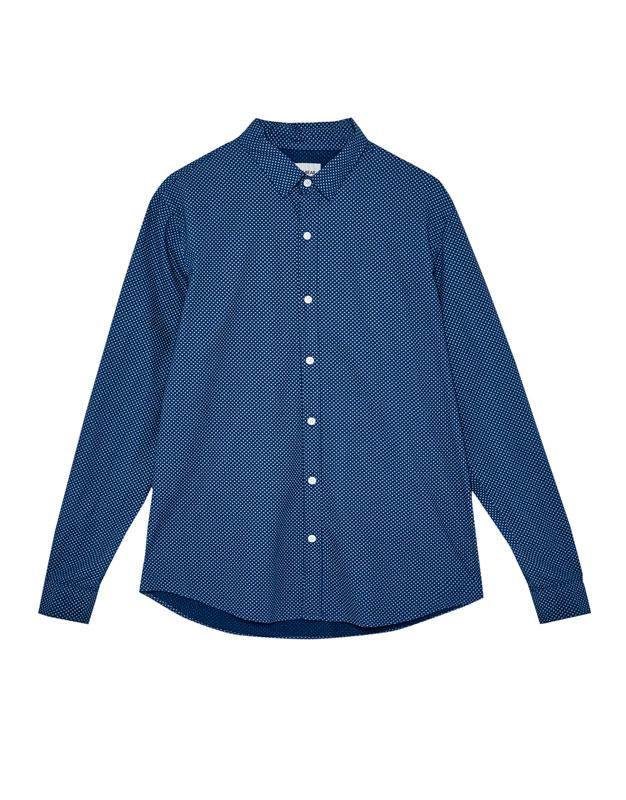teeshirt: (33, 113, 597, 674)
